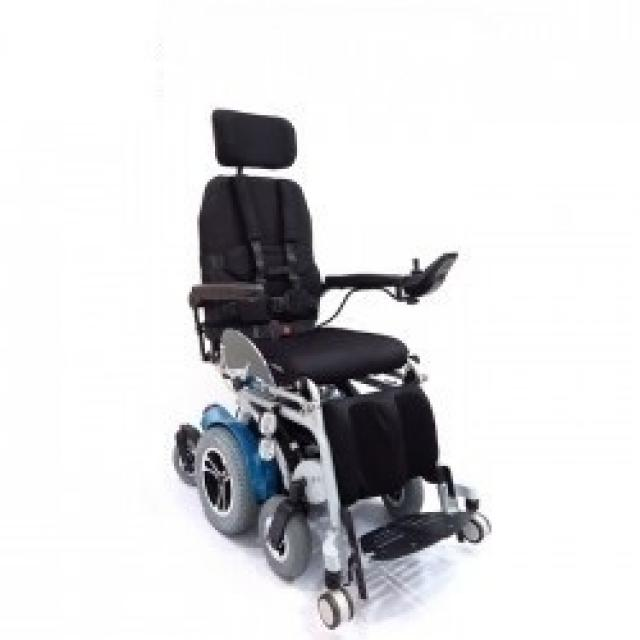wheelchair: (156, 97, 502, 640)
